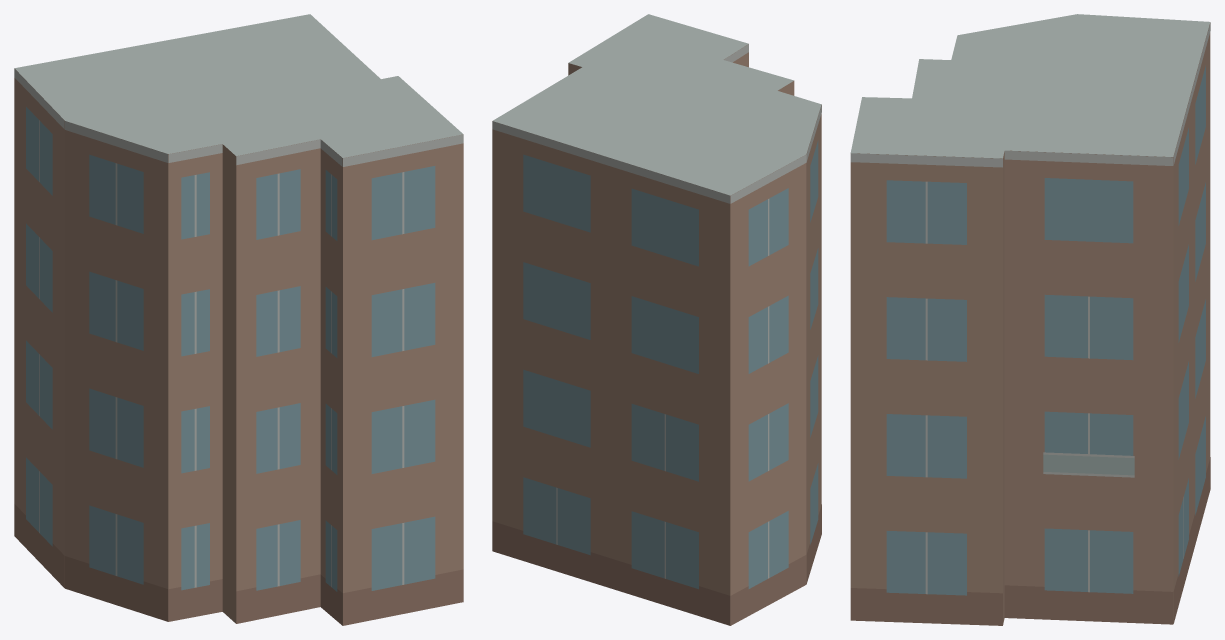
Rendered from survey-upis-32879036.glb.
The picture shows the model from 3 angles, left to right: view 1: azimuth 30°, elevation 25°; view 2: azimuth 150°, elevation 25°; view 3: azimuth 270°, elevation 25°; orthographic projection. The views are drawn at different scales.
Parts seen in each view (by area): view 1: survey-upis-32879036.tmp; view 2: survey-upis-32879036.tmp; view 3: survey-upis-32879036.tmp.
Part boxes in pixels (x1,y1,x2,y2): survey-upis-32879036.tmp: [14, 14, 463, 625]; survey-upis-32879036.tmp: [492, 14, 821, 625]; survey-upis-32879036.tmp: [850, 14, 1210, 625].
Size of the model in its own units: 8.36 by 12.6 by 8.8.
